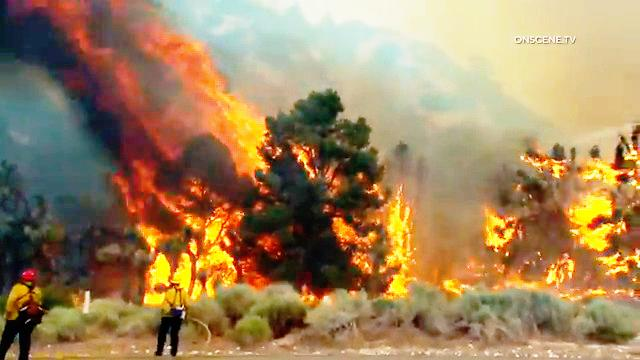fire: (354, 196, 424, 298), (152, 212, 237, 263), (573, 195, 622, 263)
smoke: (17, 0, 167, 50)
